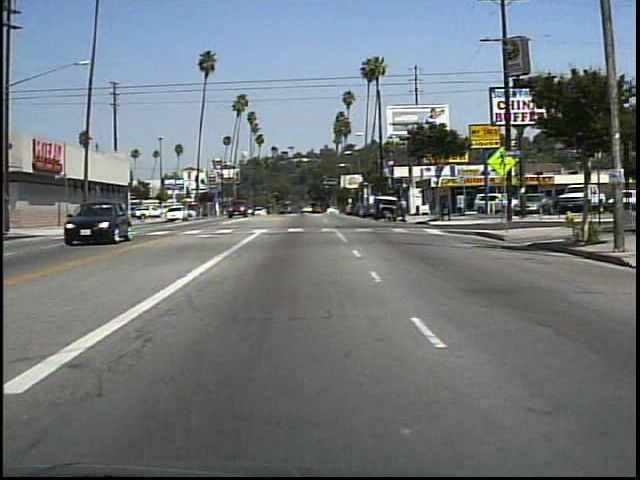person: (397, 194, 412, 225), (112, 199, 125, 224), (381, 208, 398, 227)
